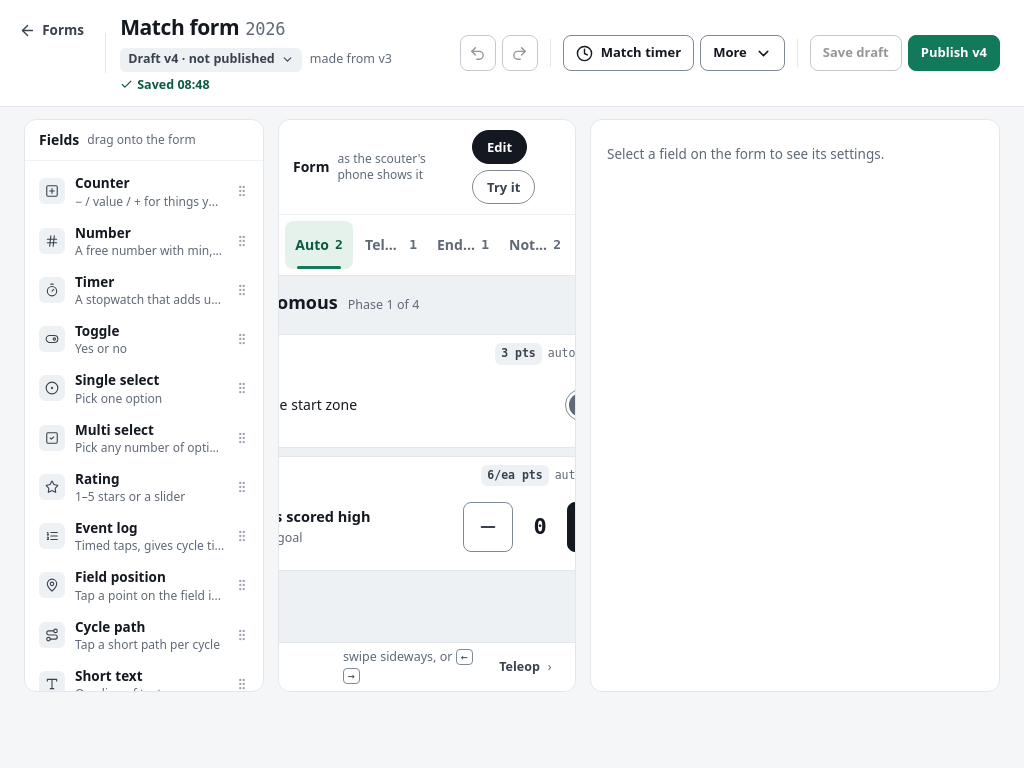
Test: Export (task 1.31) › says unsaved changes are not in the export (fix round 1)
Check: the element "Form" is shown, box [278,119,576,692]
Click the button "More": click(742, 53) [700,35,785,71]
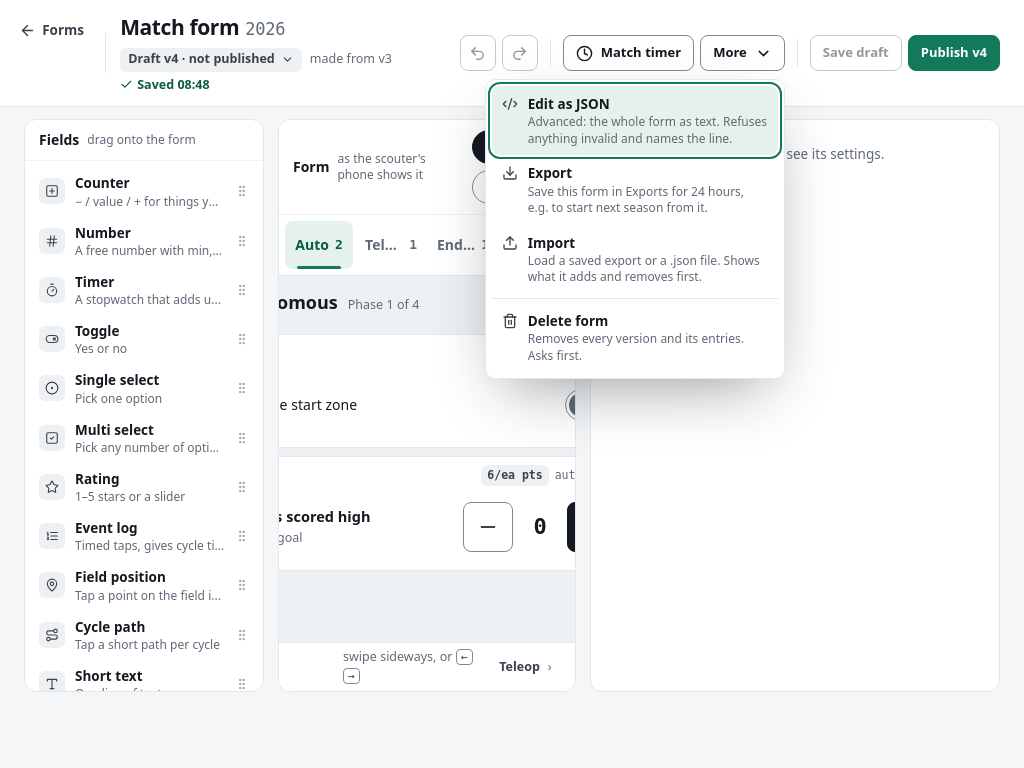
Click the menu item "Export": click(635, 190) [492,155,778,225]
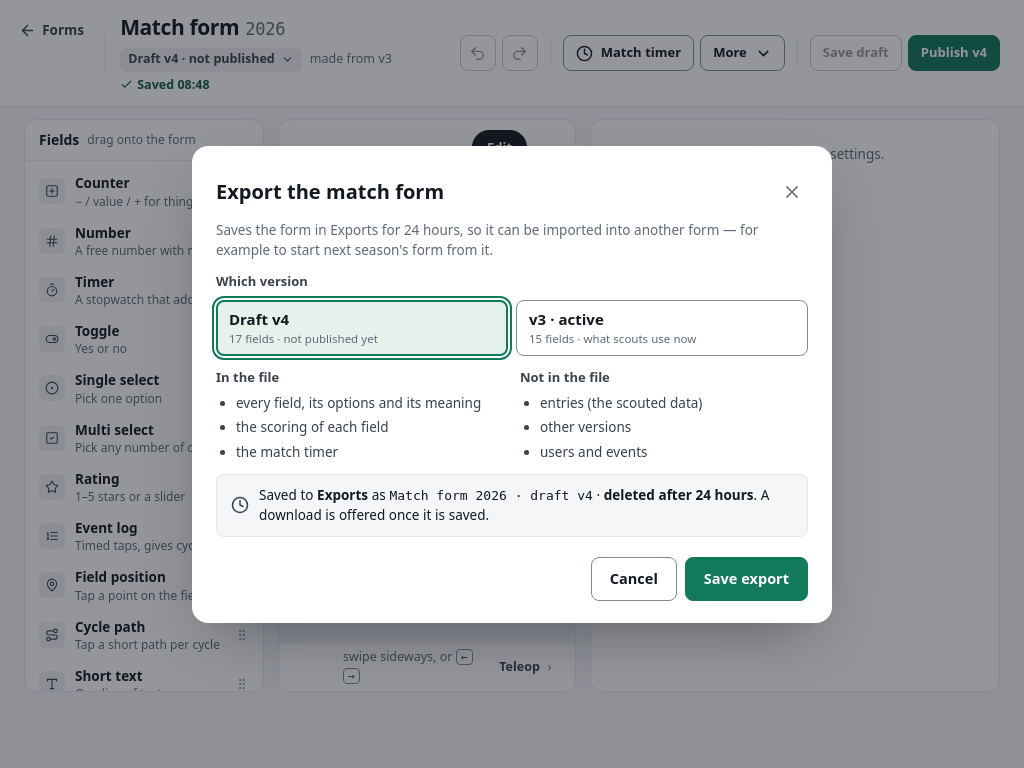
Check: the text "Unsaved changes are not in the export" is not shown
Click the button "Cancel": click(634, 578) [591,556,677,600]
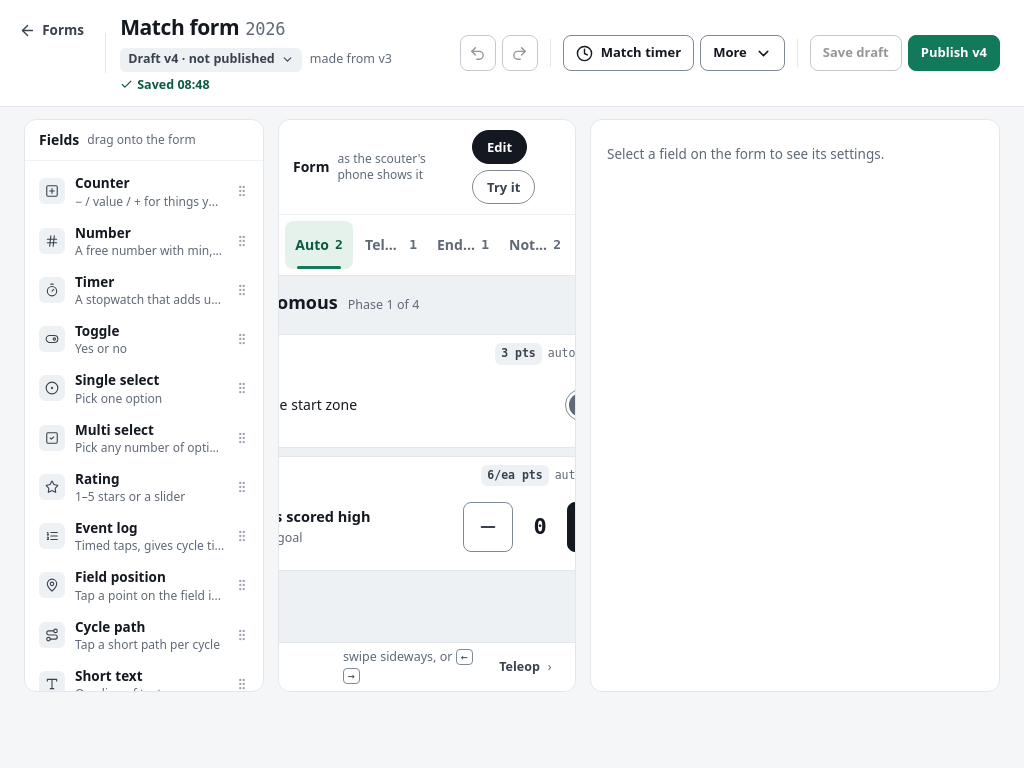
Click the button with aria-label "Add Toggle:": click(144, 339) [31,315,257,363]
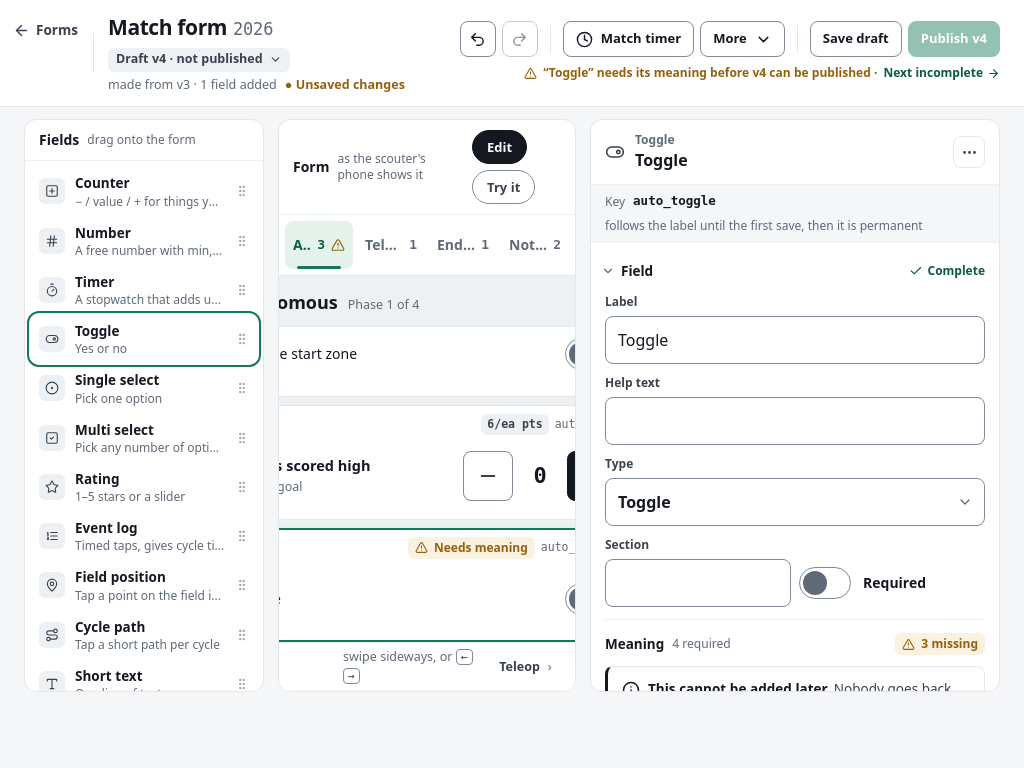
Click the button "More": click(742, 39) [700,21,785,57]
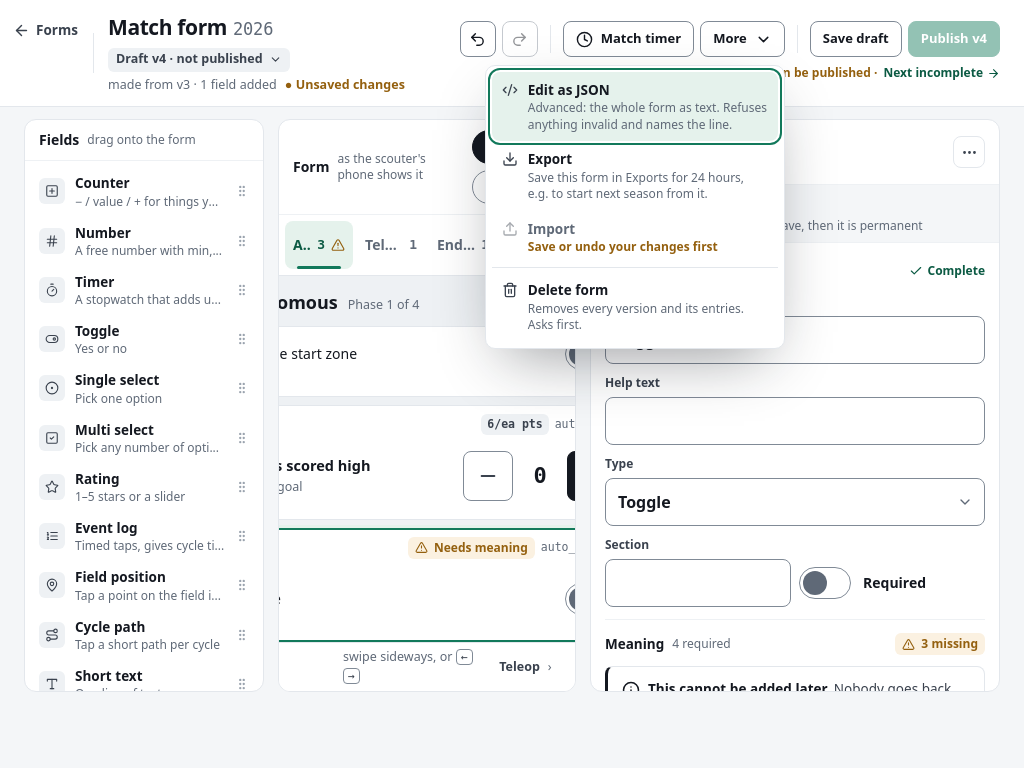
Click the menu item "Export": click(635, 176) [492,141,778,211]
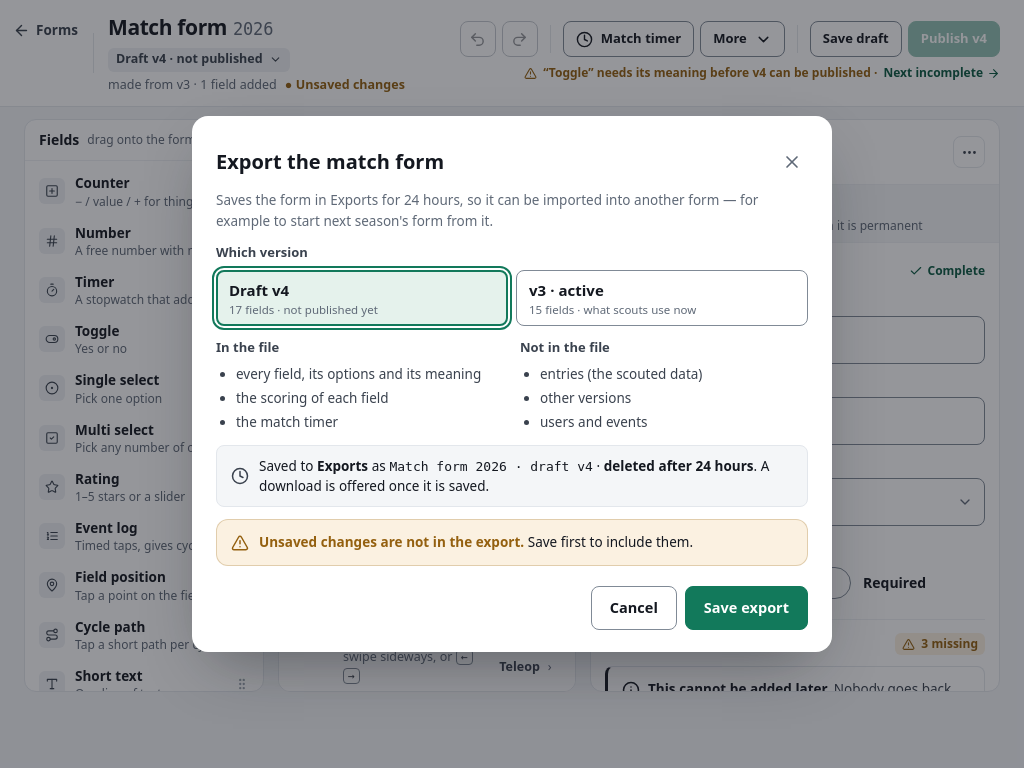
Check: the text "Unsaved changes are not in the export." is shown, box [259,533,528,551]
Check: the dialog "Export the match form" shows "Save first to include them.", box [528,533,693,551]
